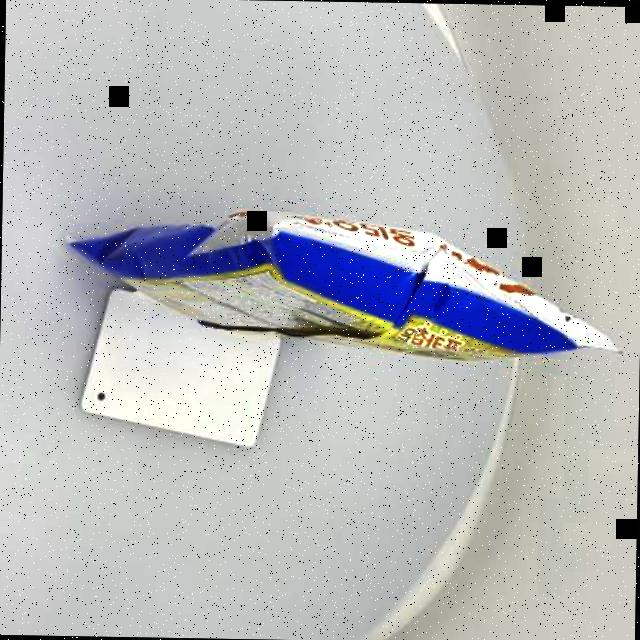snack_bag: (39, 169, 632, 402)
